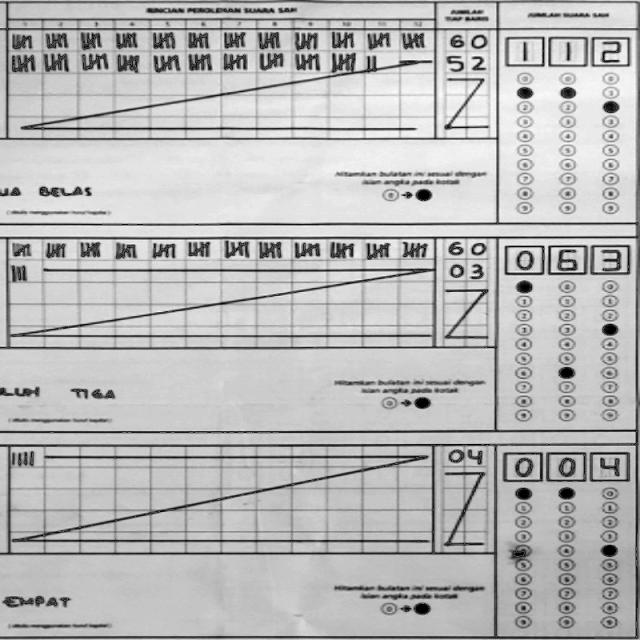Suara: (502, 31, 633, 71), (501, 238, 631, 278), (501, 446, 631, 486)
